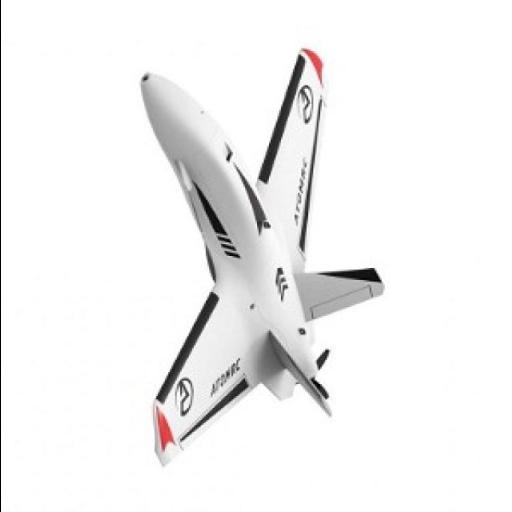uav: (110, 41, 384, 473)
